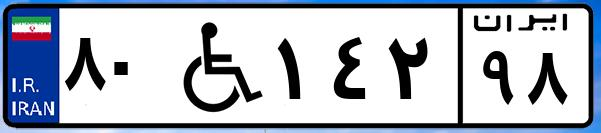0: (110, 28, 158, 98)
1: (270, 28, 330, 110)
2: (385, 28, 445, 110)
4: (330, 28, 385, 110)
8: (57, 26, 110, 100), (525, 38, 570, 115)
9: (475, 38, 525, 113)
ژ (معلولین و جانبازان): (158, 12, 270, 120)
